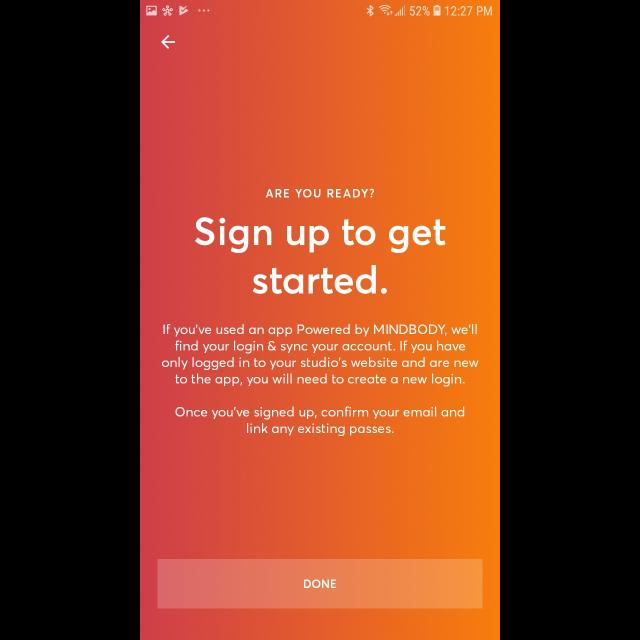icon: (161, 35, 175, 49)
text: (162, 324, 478, 388), (194, 217, 446, 295), (176, 406, 464, 436), (266, 190, 374, 198)
textbutton: (158, 559, 482, 609)
uppertaskbar: (140, 1, 500, 18)
